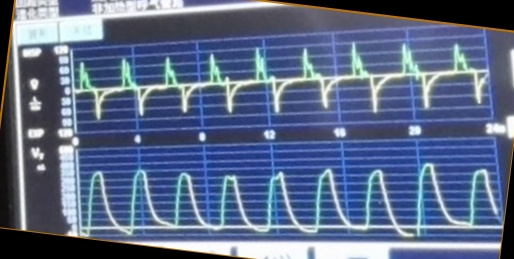Accumulation Flow: (76, 42, 490, 121)
Volume: (83, 157, 500, 239)
